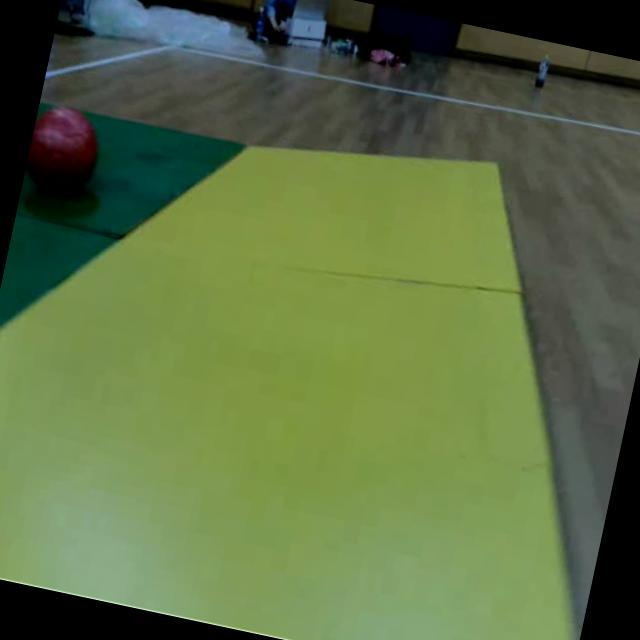red_ball: (20, 100, 109, 206)
